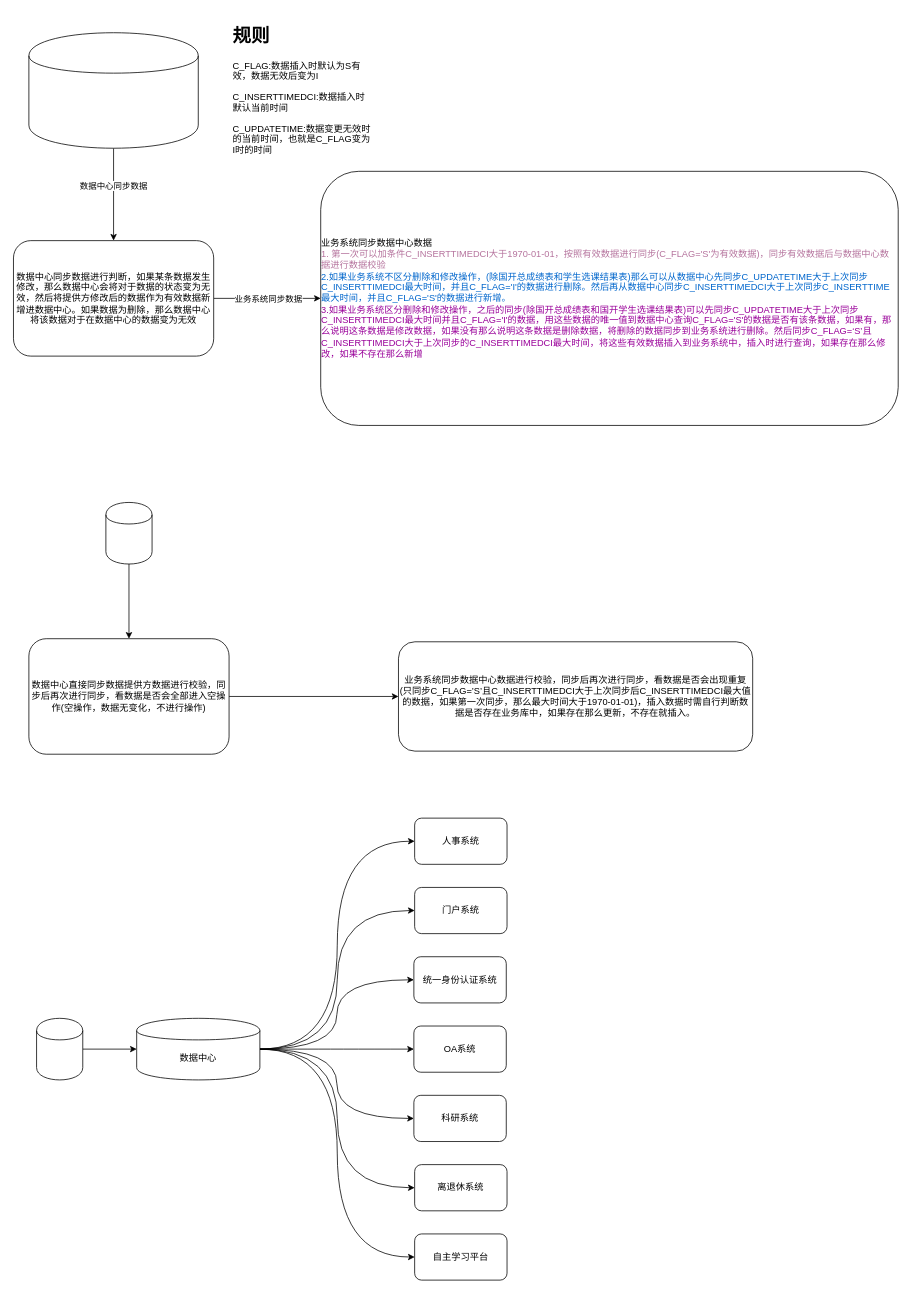
This 912x1294 diagram has some shape labels left out. The shapes that lost their labels are listed below. From the top down, each one's box as (x1, y1, x2, y2) in pixels, then its label:
(28, 32, 198, 148): 提供方修改删除数据
(105, 502, 152, 564): 提供方确认数据
(36, 1018, 83, 1080): 数据提供方
